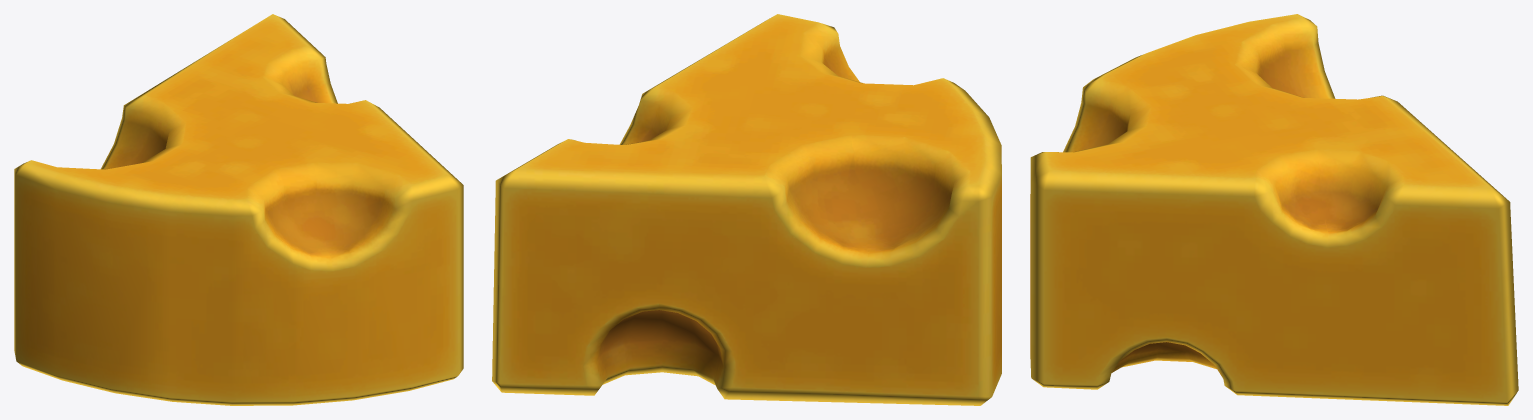
File: t_ingredients_cheese_01_d.fbx
The picture shows the model from 3 angles, left to right: view 1: azimuth 30°, elevation 25°; view 2: azimuth 150°, elevation 25°; view 3: azimuth 270°, elevation 25°; orthographic projection. The views are drawn at different scales.
Visible parts, largest first — view 1: m_ingredients_cheese_01; view 2: m_ingredients_cheese_01; view 3: m_ingredients_cheese_01.
Boxes of the visible parts, bbox=[...] form: m_ingredients_cheese_01: bbox=[14, 14, 463, 405]; m_ingredients_cheese_01: bbox=[492, 14, 1001, 405]; m_ingredients_cheese_01: bbox=[1030, 14, 1518, 405].
Bounding box in the file's own units: 70.51 × 37.71 × 77.27.
